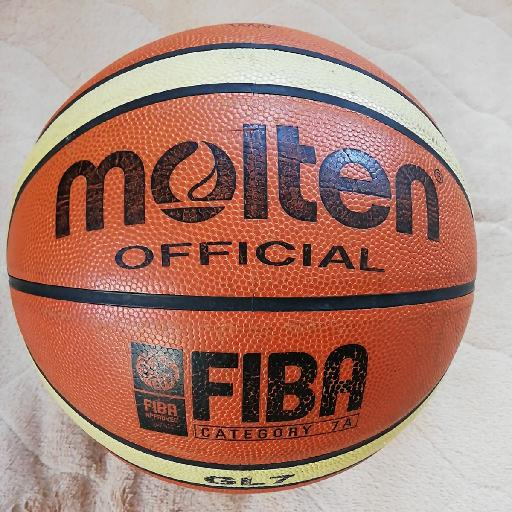ball: (8, 22, 478, 493)
